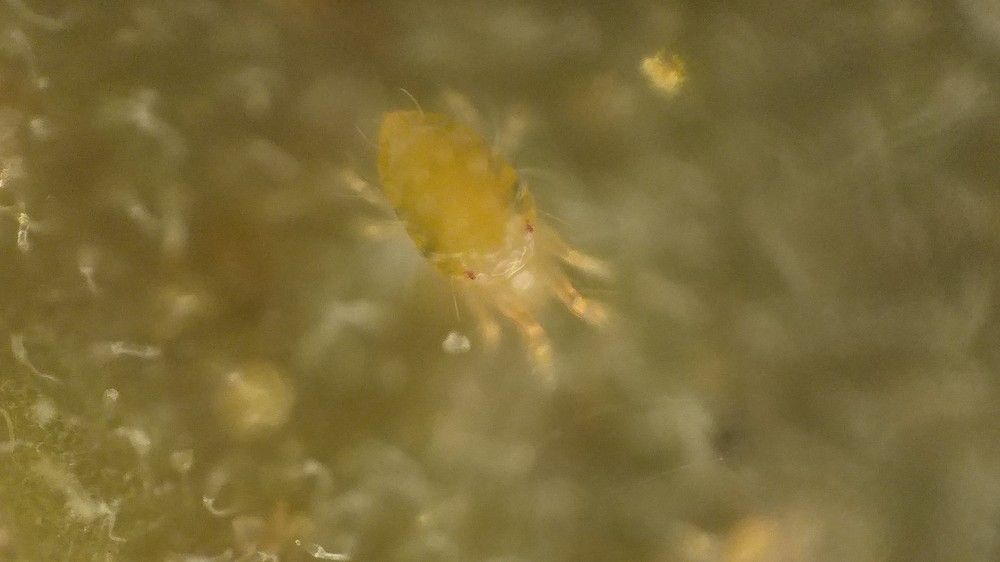Aracnido Rojo: (323, 83, 656, 403)
